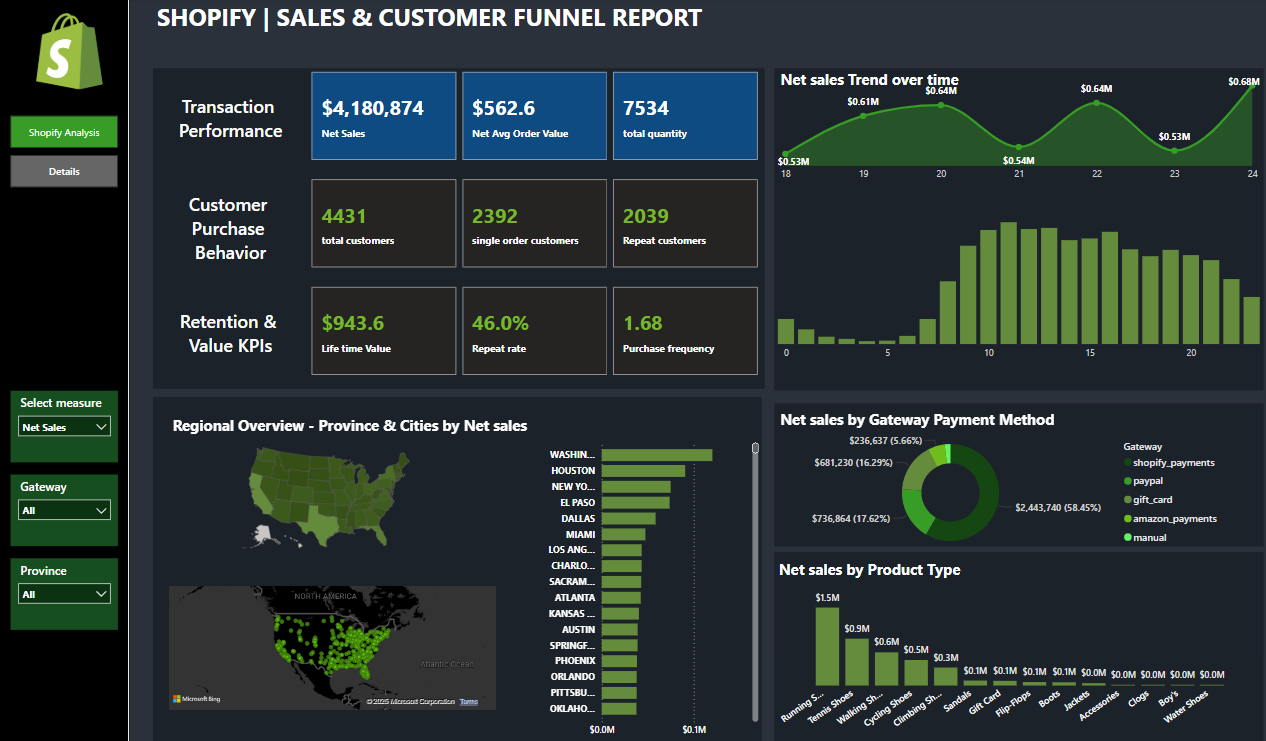

Layout of this report page (visuals, bound fields, positions):
{"tool":"powerbi","page":{"name":"Shopify Analysis","canvas":[1700,1000],"ordinal":0},"visuals":[{"type":"shape","box":[0,-8,176,1008],"z":0},{"type":"textbox","box":[208,0,784,96],"z":1000},{"type":"shape","box":[208,96,820,430],"z":2000},{"type":"cardVisual","fields":{"Data":["shopify_sales.Net Sales","shopify_sales.Net Avg Order Value","shopify_sales.total quantity"]},"box":[416,96,608,128],"z":3000},{"type":"card","fields":{"Values":["shopify_sales.Transaction Performance"]},"box":[208,112,208,96],"z":4000},{"type":"cardVisual","fields":{"Data":["shopify_sales.total customers","shopify_sales.single order customers","shopify_sales.Repeat customers"]},"box":[416,240,608,128],"z":5000},{"type":"card","fields":{"Values":["shopify_sales.Customer purchase behavior"]},"box":[208,240,208,128],"z":6000},{"type":"cardVisual","fields":{"Data":["shopify_sales.Life time Value","shopify_sales.Repeat rate","shopify_sales.Purchase frequency"]},"box":[416,384,608,128],"z":7000},{"type":"card","fields":{"Values":["shopify_sales.retention & values kpis"]},"box":[208,384,208,128],"z":8000},{"type":"shape","box":[208,536,816,464],"z":9000},{"type":"shapeMap","fields":{"Value":["shopify_sales.Net Sales"],"Category":["shopify_sales.Billing Address Province"]},"box":[208,592,464,160],"z":10000},{"type":"slicer","fields":{"Values":["Select measure.Select measure"]},"box":[16,528,144,96],"z":11000},{"type":"map","fields":{"Category":["shopify_sales.Location"]},"box":[224,784,448,176],"z":12000},{"type":"clusteredBarChart","fields":{"Y":["shopify_sales.Net Sales"],"Category":["shopify_sales.CITY"]},"box":[720,584,304,416],"z":13000},{"type":"card","fields":{"Values":["shopify_sales.Map title"]},"box":[208,544,528,64],"z":14000},{"type":"shape","box":[1040,96,656,432],"z":15000},{"type":"areaChart","fields":{"Y":["shopify_sales.Net Sales"],"Category":["shopify_sales.Invoice Date.Variation.Date Hierarchy.Day"]},"box":[1040,96,656,160],"z":16000},{"type":"columnChart","fields":{"Y":["shopify_sales.Net Sales"],"Category":["shopify_sales.hour"]},"box":[1040,272,656,224],"z":17000},{"type":"card","fields":{"Values":["shopify_sales.Trend Title"]},"box":[1040,96,256,32],"z":18000},{"type":"shape","box":[1040,544,656,192],"z":19000},{"type":"donutChart","fields":{"Y":["shopify_sales.Net Sales"],"Category":["shopify_sales.Gateway"]},"box":[1040,576,608,176],"z":20000},{"type":"card","fields":{"Values":["shopify_sales.Gateway Title"]},"box":[1040,544,384,48],"z":21000},{"type":"shape","box":[1040,744,656,256],"z":22000},{"type":"columnChart","fields":{"Y":["shopify_sales.Net Sales"],"Category":["shopify_sales.Product Type"]},"box":[1040,784,624,208],"z":23000},{"type":"card","fields":{"Values":["shopify_sales.Product Title"]},"box":[1040,752,256,32],"z":24000},{"type":"image","box":[32,16,128,112],"z":25000},{"type":"slicer","fields":{"Values":["shopify_sales.Gateway"]},"box":[16,640,144,96],"z":26000},{"type":"slicer","fields":{"Values":["shopify_sales.Billing Address Province"]},"box":[16,752,144,96],"z":27000},{"type":"pageNavigator","box":[16,160,144,96],"z":27001}]}

Visuals, with their boxes on the page's 1700x1000 design canvas (x1, y1, x2, y2). These are canvas units, not pixel positions in the 1266x741 screenshot, which may show the page scaled, cropped or inside an application window:
shape: <box>0,-8,176,1000</box>
textbox: <box>208,0,992,96</box>
shape: <box>208,96,1028,526</box>
cardVisual - shopify_sales.Net Sales x shopify_sales.Net Avg Order Value: <box>416,96,1024,224</box>
card - shopify_sales.Transaction Performance: <box>208,112,416,208</box>
cardVisual - shopify_sales.total customers x shopify_sales.single order customers: <box>416,240,1024,368</box>
card - shopify_sales.Customer purchase behavior: <box>208,240,416,368</box>
cardVisual - shopify_sales.Life time Value x shopify_sales.Repeat rate: <box>416,384,1024,512</box>
card - shopify_sales.retention & values kpis: <box>208,384,416,512</box>
shape: <box>208,536,1024,1000</box>
shapeMap - shopify_sales.Net Sales x shopify_sales.Billing Address Province: <box>208,592,672,752</box>
slicer - Select measure.Select measure: <box>16,528,160,624</box>
map - shopify_sales.Location: <box>224,784,672,960</box>
clusteredBarChart - shopify_sales.Net Sales x shopify_sales.CITY: <box>720,584,1024,1000</box>
card - shopify_sales.Map title: <box>208,544,736,608</box>
shape: <box>1040,96,1696,528</box>
areaChart - shopify_sales.Net Sales x shopify_sales.Invoice Date.Variation.Date Hierarchy.Day: <box>1040,96,1696,256</box>
columnChart - shopify_sales.Net Sales x shopify_sales.hour: <box>1040,272,1696,496</box>
card - shopify_sales.Trend Title: <box>1040,96,1296,128</box>
shape: <box>1040,544,1696,736</box>
donutChart - shopify_sales.Net Sales x shopify_sales.Gateway: <box>1040,576,1648,752</box>
card - shopify_sales.Gateway Title: <box>1040,544,1424,592</box>
shape: <box>1040,744,1696,1000</box>
columnChart - shopify_sales.Net Sales x shopify_sales.Product Type: <box>1040,784,1664,992</box>
card - shopify_sales.Product Title: <box>1040,752,1296,784</box>
image: <box>32,16,160,128</box>
slicer - shopify_sales.Gateway: <box>16,640,160,736</box>
slicer - shopify_sales.Billing Address Province: <box>16,752,160,848</box>
pageNavigator: <box>16,160,160,256</box>
